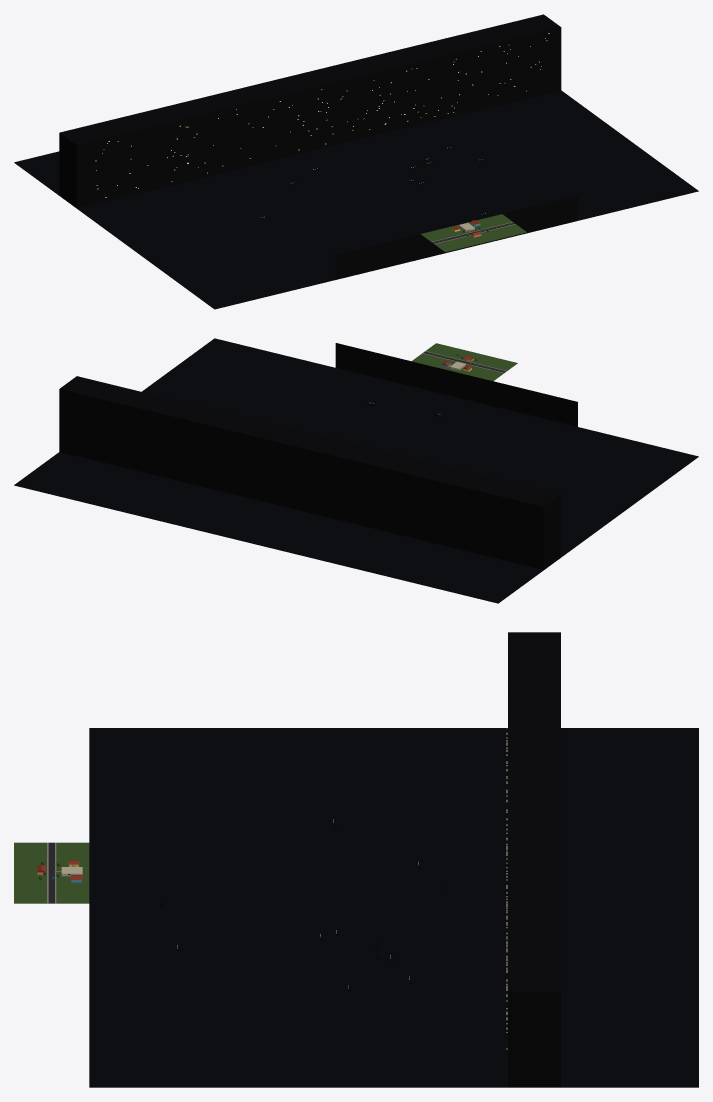
File: casa.glb
3 renders of one model, top to bottom at view 1: azimuth 30°, elevation 25°; view 2: azimuth 150°, elevation 25°; view 3: azimuth 270°, elevation 25°, orthographic. The views are drawn at different scales.
Parts seen in each view (by area): view 1: Mar, Cerros_lejanos, Acantilado, Suelo_pasto; view 2: Mar, Cerros_lejanos, Acantilado, Suelo_pasto; view 3: Mar, Cerros_lejanos, Suelo_pasto.
Part boxes in pixels (x1,y1,x2,y2): Mar: [14, 90, 698, 309]; Cerros_lejanos: [59, 14, 561, 208]; Acantilado: [335, 195, 577, 279]; Suelo_pasto: [420, 214, 526, 252]; Mar: [14, 338, 698, 603]; Cerros_lejanos: [59, 376, 561, 569]; Acantilado: [335, 343, 577, 426]; Suelo_pasto: [411, 343, 517, 381]; Mar: [89, 728, 698, 1087]; Cerros_lejanos: [508, 632, 560, 1087]; Suelo_pasto: [14, 842, 89, 903].
Size of the model in its own units: 800 by 100 by 645.
91 materials, 6 textured.
